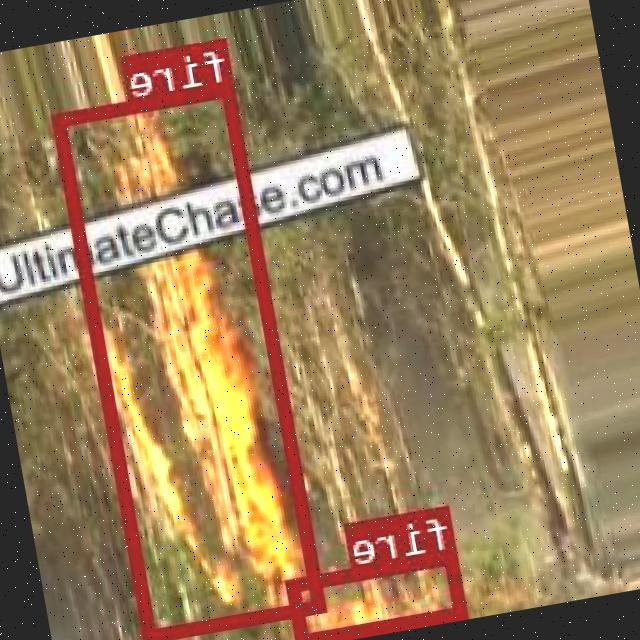fire: (53, 78, 328, 640), (289, 547, 469, 640)
